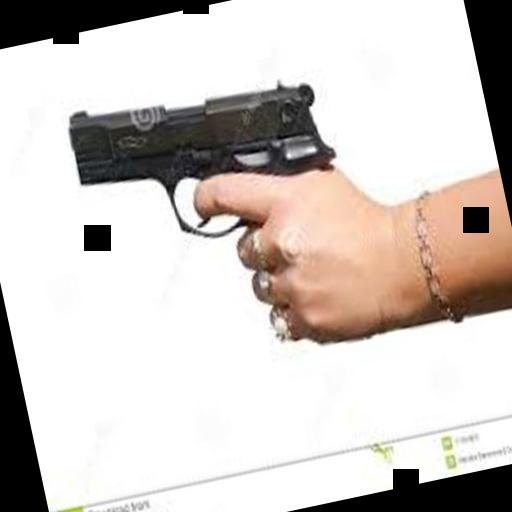Handgun: (56, 38, 380, 396)
